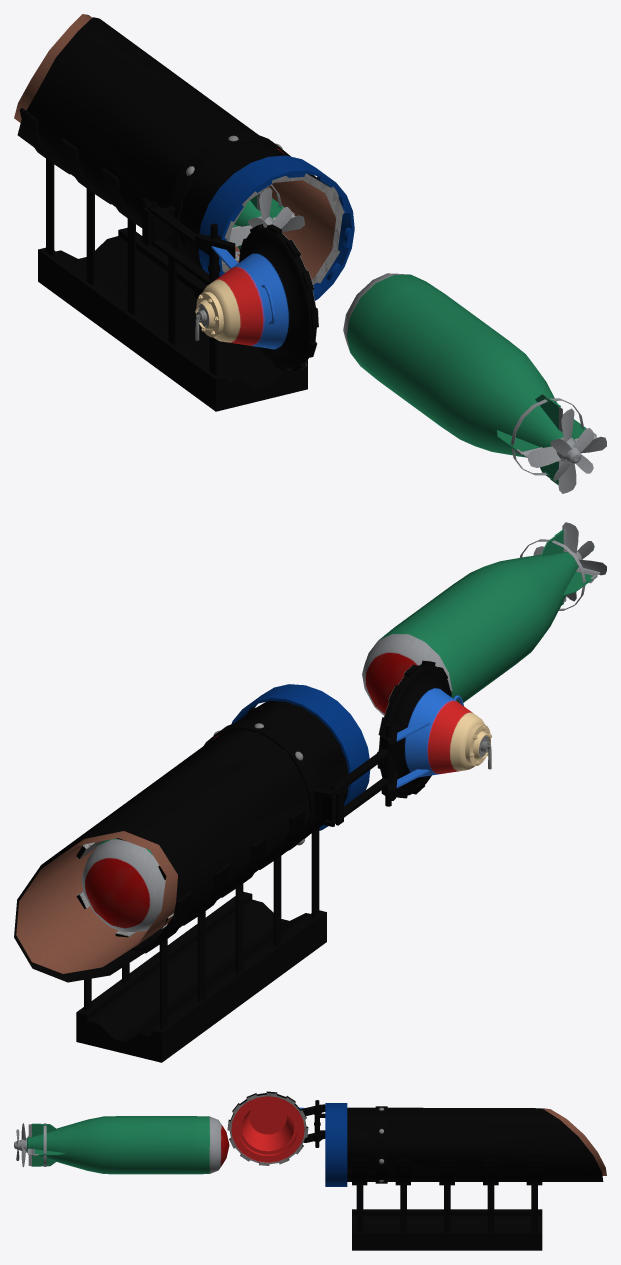
File: hernya.fbx
3 renders of one model, top to bottom at view 1: azimuth 30°, elevation 25°; view 2: azimuth 150°, elevation 25°; view 3: azimuth 270°, elevation 25°, orthographic. The views are drawn at different scales.
Parts seen in each view (by area): view 1: Cube.177, Cube.134, Cylinder.138, Cylinder.193, Cylinder.139; view 2: Cube.134, Cube.177, Cylinder.138, Cylinder.193, Cylinder.139; view 3: Cube.134, Cube.177, Cylinder.138, Cylinder.193.
Boxes of the visible parts, <box> form: Cube.177: <box>19,108,354,411</box>; Cube.134: <box>14,14,344,284</box>; Cylinder.138: <box>343,273,606,493</box>; Cylinder.193: <box>195,224,318,371</box>; Cylinder.139: <box>229,184,304,254</box>; Cube.134: <box>14,700,348,982</box>; Cube.177: <box>76,684,394,1062</box>; Cylinder.138: <box>362,522,606,715</box>; Cylinder.193: <box>377,660,491,800</box>; Cylinder.139: <box>81,838,165,932</box>; Cube.134: <box>347,1107,606,1181</box>; Cube.177: <box>314,1100,542,1250</box>; Cylinder.138: <box>14,1116,229,1174</box>; Cylinder.193: <box>227,1091,325,1165</box>.
Size of the model in its own units: 122 by 135 by 552.
